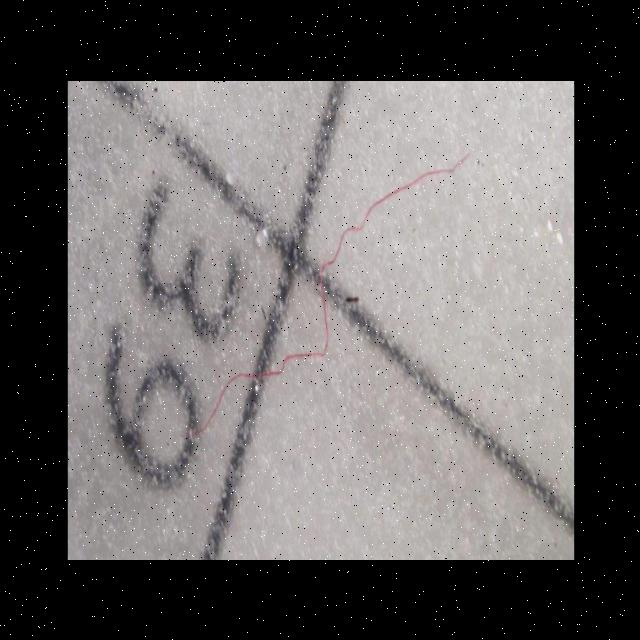Fibre: (185, 140, 475, 462)
